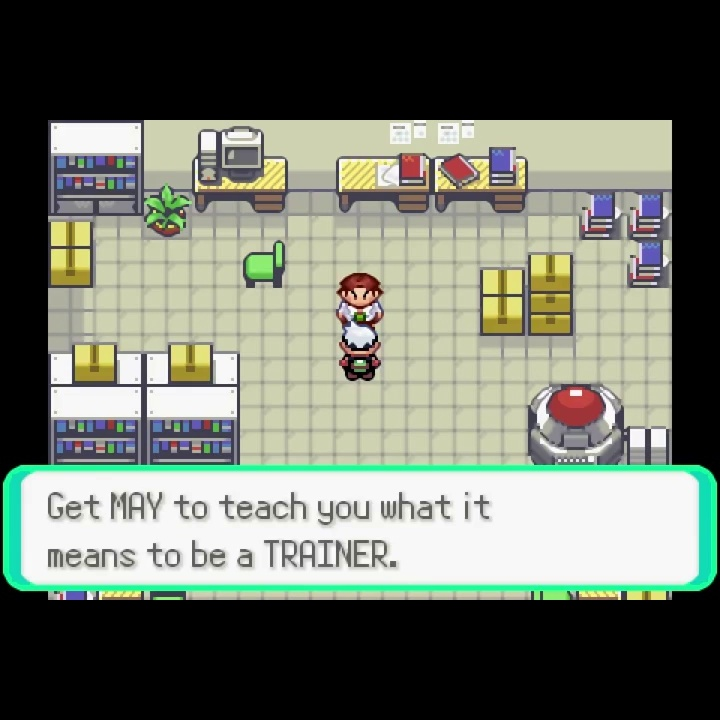agent: (335, 321, 385, 384)
npc: (332, 272, 388, 332)
